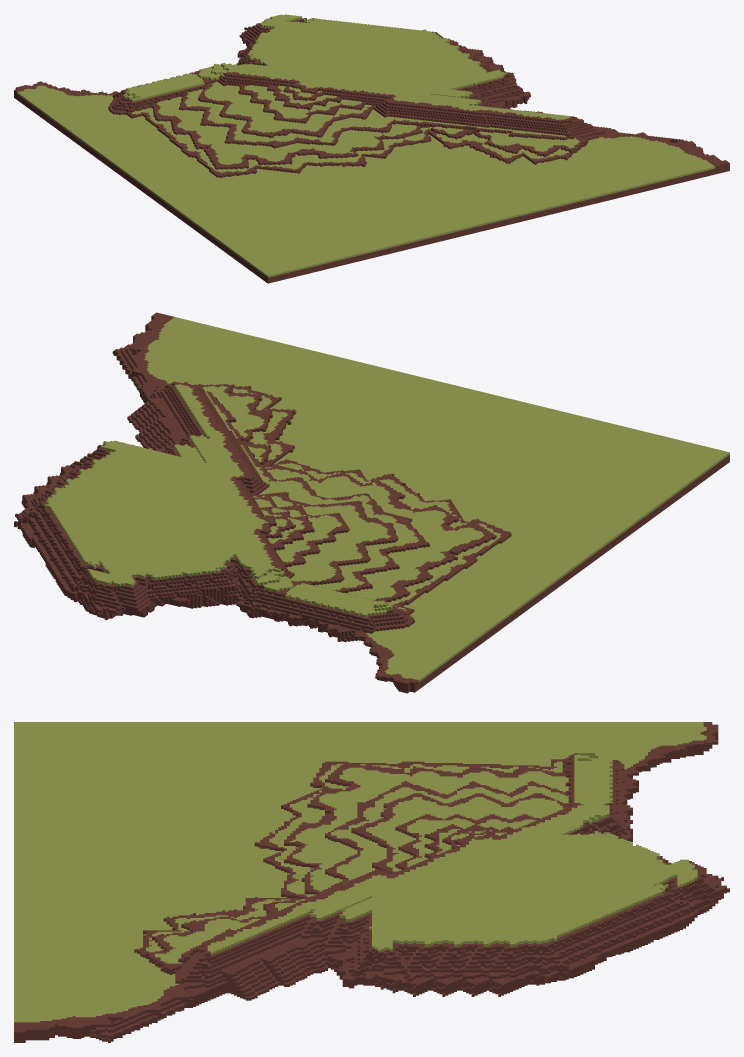
Rendered from G Map (top right).obj.
3 views of the same model, one above another, from view 1: azimuth 30°, elevation 25°; view 2: azimuth 150°, elevation 25°; view 3: azimuth 270°, elevation 25° (orthographic). The views are drawn at different scales.
Bounding box in the file's own units: 25 × 1.2 × 24.4.
Materials: 1 (1 with a texture image).
